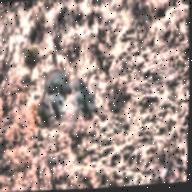boar: (42, 60, 71, 92), (36, 92, 53, 132), (78, 88, 100, 118), (51, 88, 68, 119), (71, 73, 91, 93)
